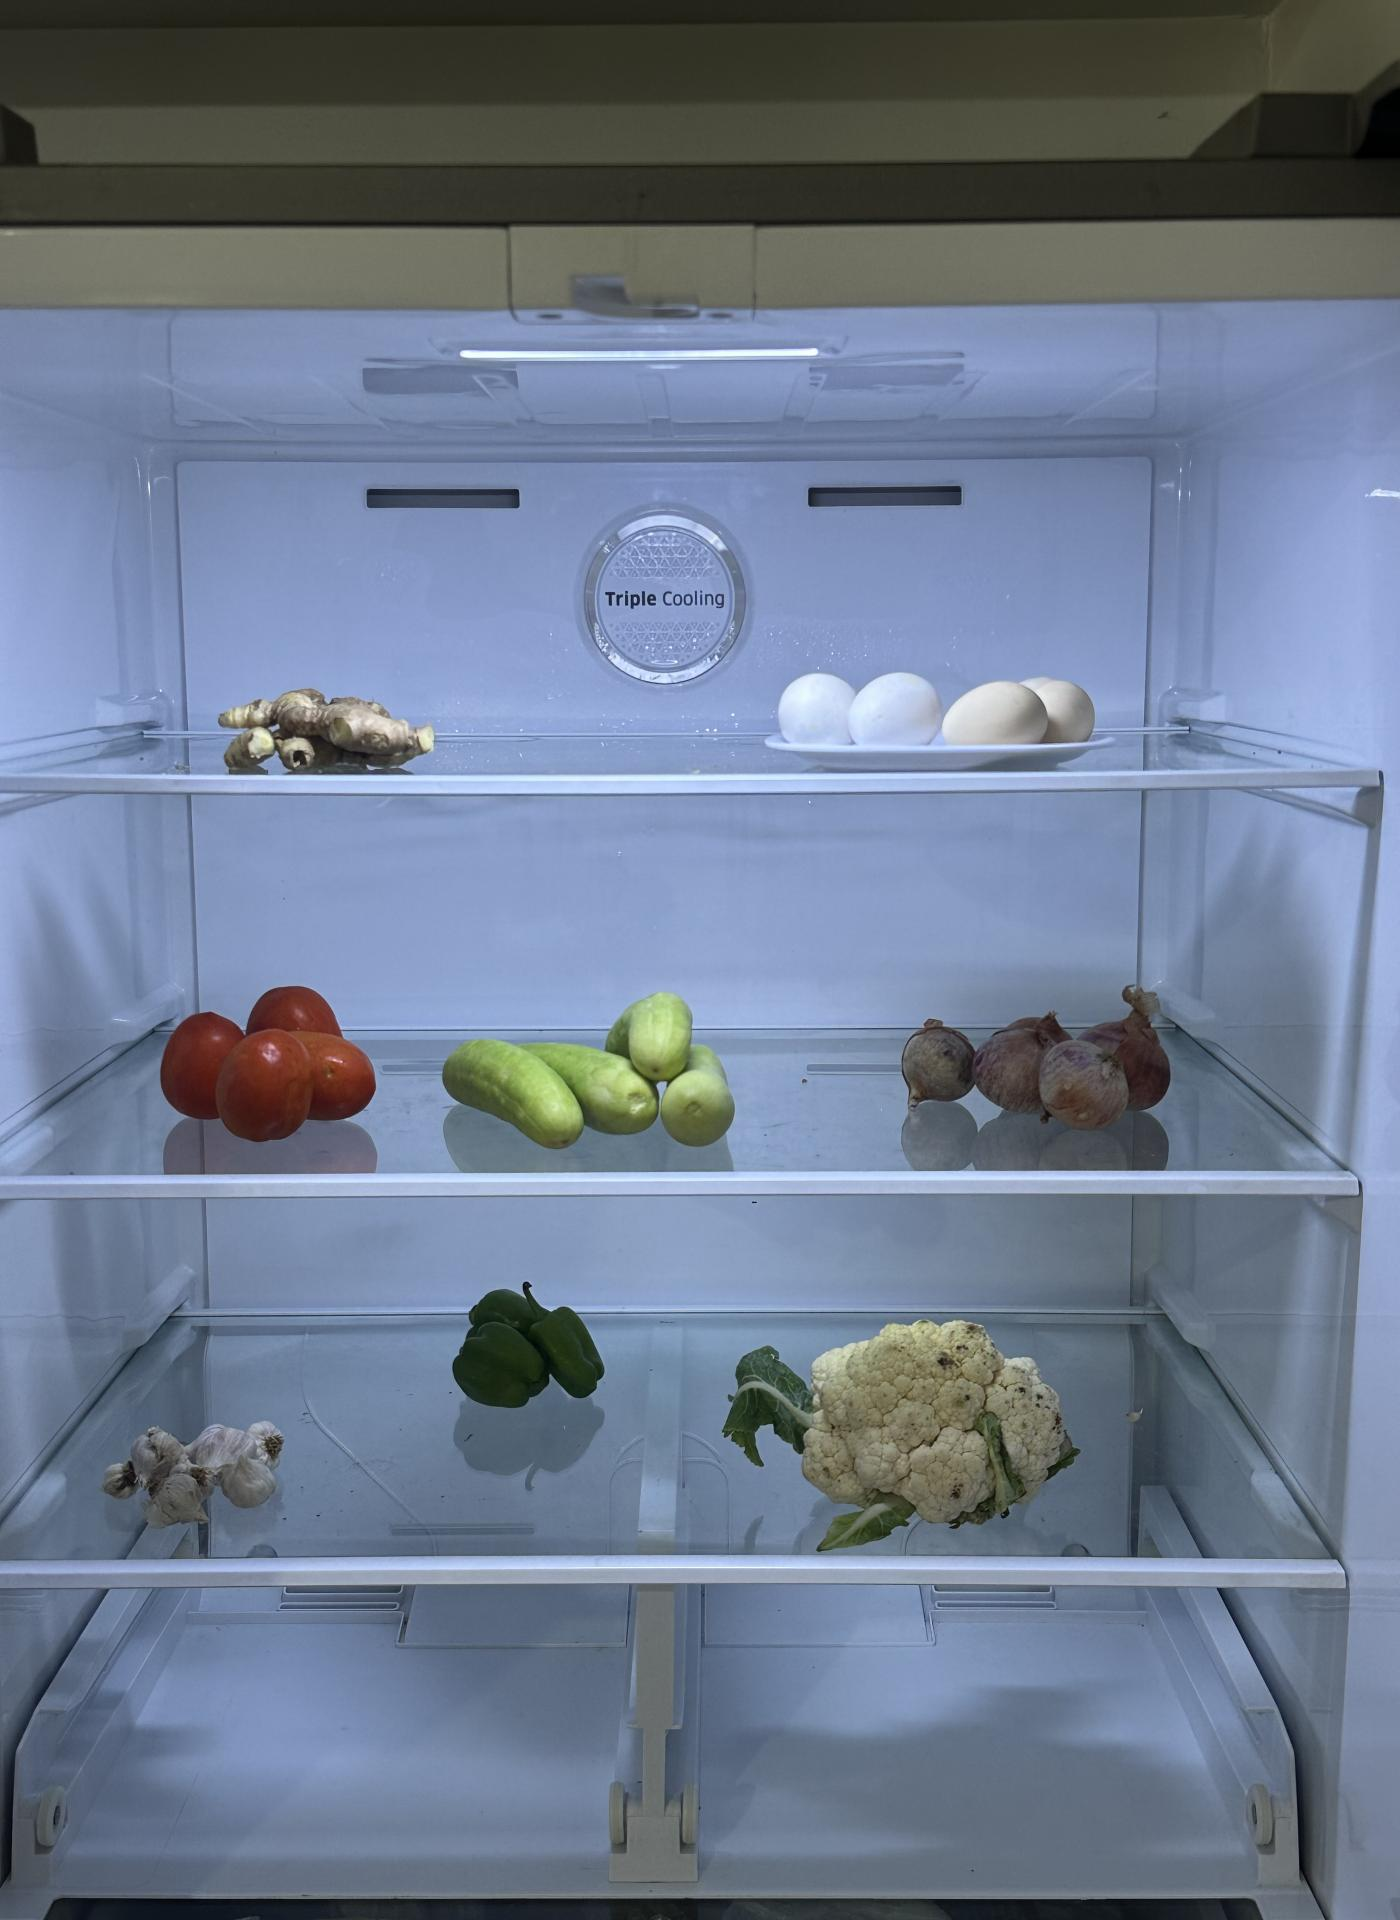capsicum: (452, 1279, 611, 1409)
cauliflower: (798, 1319, 1073, 1529)
cucumber: (440, 991, 745, 1151)
egg: (759, 669, 1102, 766)
garlic: (98, 1413, 285, 1535)
ginger: (218, 683, 438, 778)
onion: (898, 1003, 1176, 1134)
tomato: (155, 978, 379, 1143)
